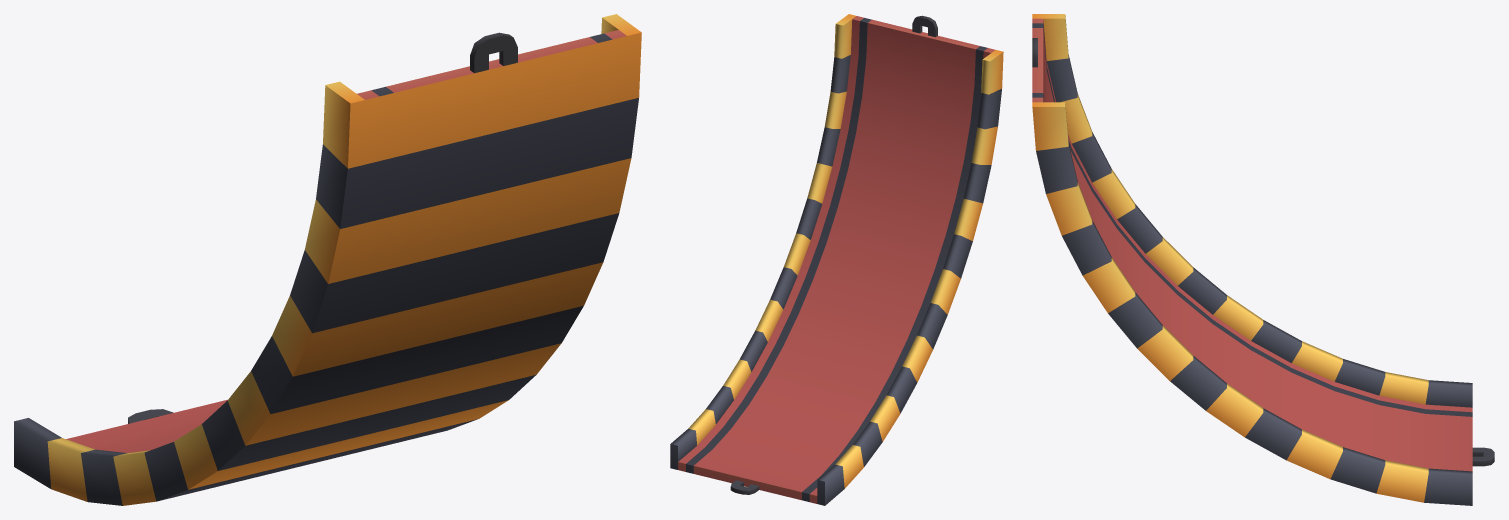
Rendered from track-road-wide-straight-bend-large.fbx.
The picture shows the model from 3 angles, left to right: view 1: azimuth 30°, elevation 25°; view 2: azimuth 150°, elevation 25°; view 3: azimuth 270°, elevation 25°; orthographic projection. The views are drawn at different scales.
Parts seen in each view (by area): view 1: track-road-wide-straight-bend-large; view 2: track-road-wide-straight-bend-large; view 3: track-road-wide-straight-bend-large.
Part boxes in pixels (x1,y1,x2,y2): track-road-wide-straight-bend-large: [14, 14, 641, 505]; track-road-wide-straight-bend-large: [670, 14, 1003, 505]; track-road-wide-straight-bend-large: [1032, 14, 1494, 505].
Size of the model in its own units: 200 by 420 by 420.
